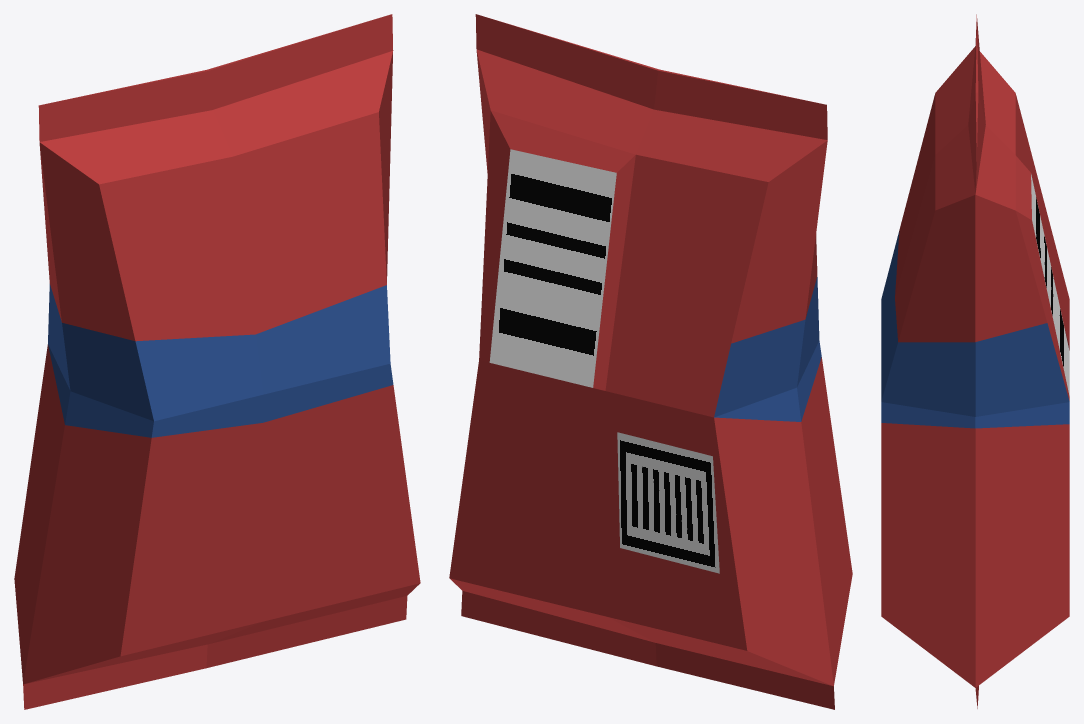
The model's file is chipBag_Fbx.fbx.
The picture shows the model from 3 angles, left to right: view 1: azimuth 30°, elevation 25°; view 2: azimuth 150°, elevation 25°; view 3: azimuth 270°, elevation 25°; orthographic projection. The views are drawn at different scales.
Parts seen in each view (by area): view 1: pCube1; view 2: pCube1; view 3: pCube1.
Boxes of the visible parts, bbox=[...] form: pCube1: bbox=[14, 14, 420, 709]; pCube1: bbox=[449, 14, 852, 709]; pCube1: bbox=[881, 14, 1069, 708].
Bounding box in the file's own units: 0.511 × 0.7846 × 0.2477.
Materials: 1 (1 with a texture image).
